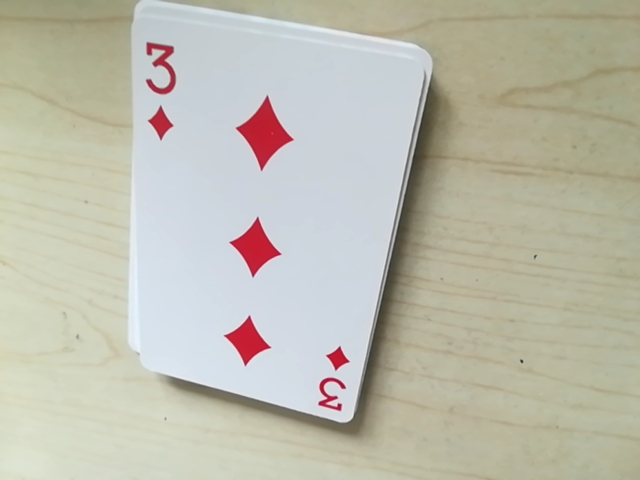fk 3: (131, 24, 187, 155), (309, 343, 354, 419)
